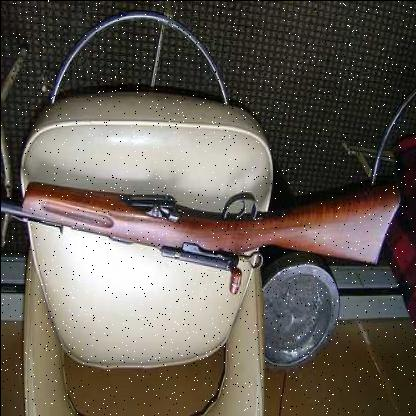rifle: (1, 155, 401, 292)
